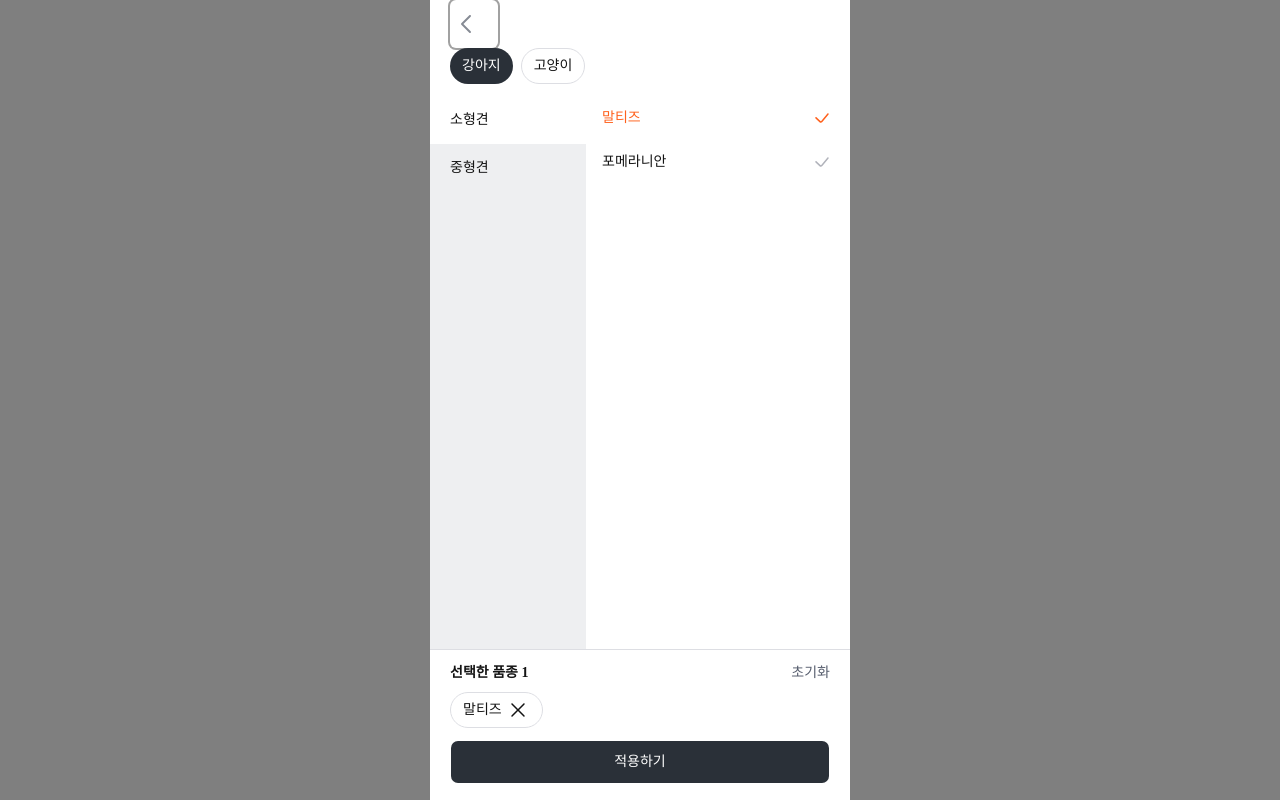
Test: ReviewFilterPicker › 초기화를 누르면 고른 것이 비워진다
Expected: the text "선택한 품종 1" is shown, [450,662,528,684]
Click the button "초기화" at (811, 673), box [791,662,830,684]
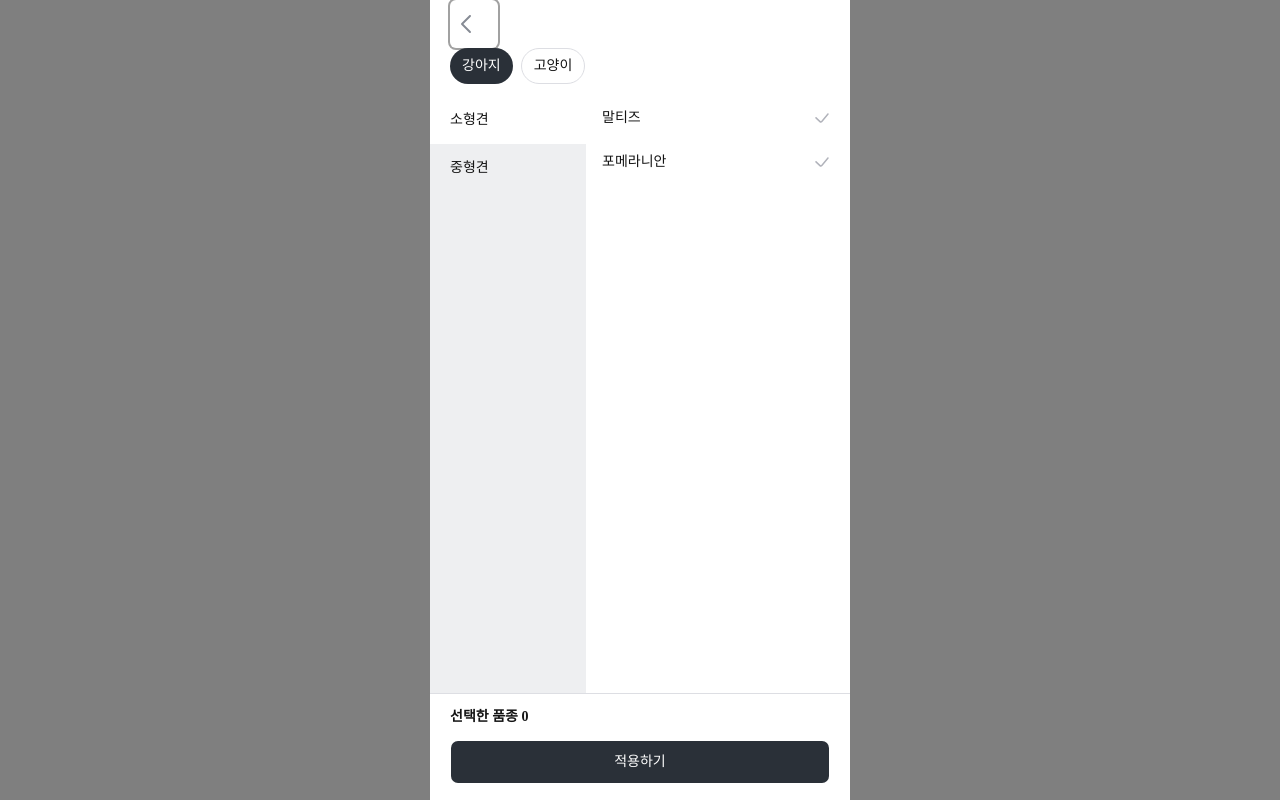
Expected: the text "선택한 품종 0" is shown, [450,706,528,728]
